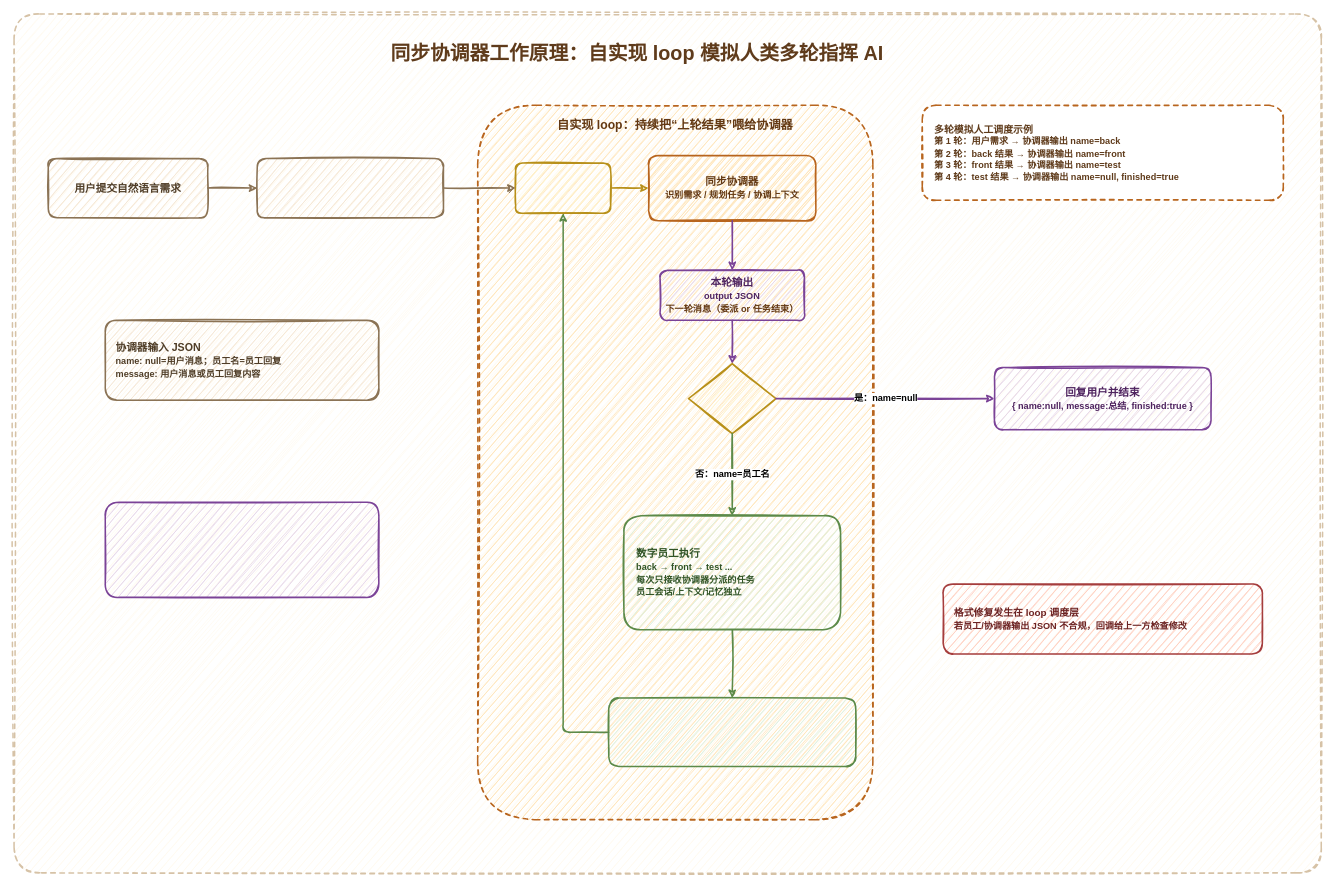
Some shapes in this 1335 by 886 pixel diagram are drawn without their labels. Each missing label, with the centre of its shape:
name 为 null？: pixel 731 398
协调器输出 JSON name: null=回复用户；员工名=分配给该员工 message: 回复内容或任务内容 finished: 当前用户任务是否完成: pixel 241 549
员工回复再次封装 { name:"back", message:执行结果 } 作为下一轮协调器输入: pixel 732 732
封装为协调器JSON输入 { name:null, message:用户需求 }: pixel 350 187
本轮输入 input JSON: pixel 563 188
